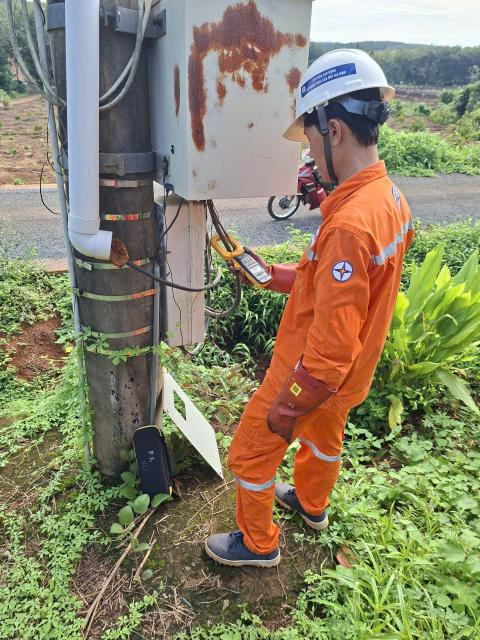gloves: (261, 350, 327, 444), (205, 240, 305, 293)
helmet: (279, 41, 398, 133)
shoes: (190, 523, 312, 575), (272, 469, 335, 528)
